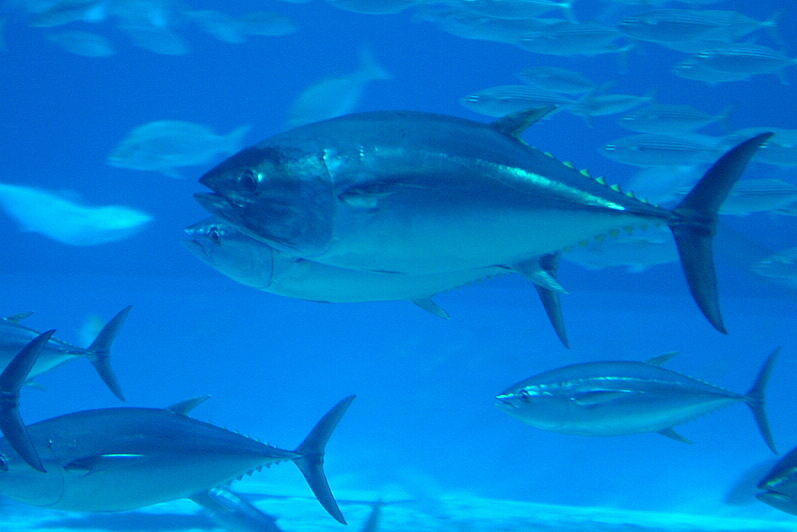Bluefina Tuna: (171, 110, 758, 320), (497, 350, 784, 458)
